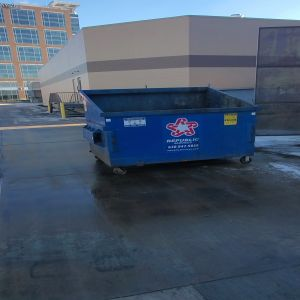Dumpster: (79, 86, 259, 173)
